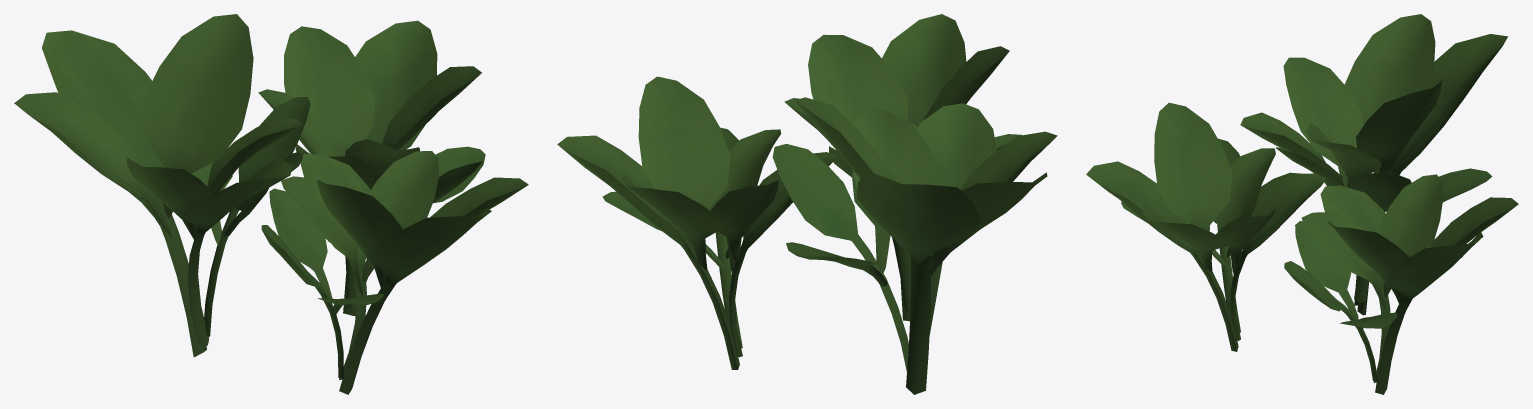
File: Crop_Spinach_Stage_05.fbx
3 views of the same model, side by side, from view 1: azimuth 30°, elevation 25°; view 2: azimuth 150°, elevation 25°; view 3: azimuth 270°, elevation 25° (orthographic). The views are drawn at different scales.
Visible parts, largest first — view 1: Spinach_Stage_05; view 2: Spinach_Stage_05; view 3: Spinach_Stage_05.
Boxes of the visible parts, x1,y1,x2,y2 form: Spinach_Stage_05: [14, 14, 528, 394]; Spinach_Stage_05: [557, 14, 1057, 394]; Spinach_Stage_05: [1086, 14, 1518, 394].
Bounding box in the file's own units: 58.6 × 38.2 × 55.78.
